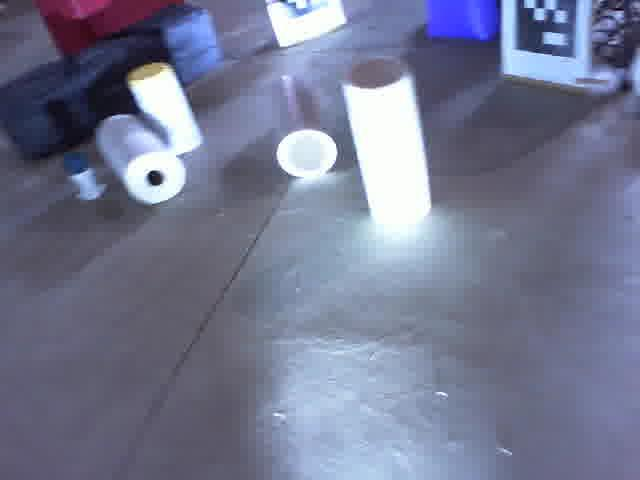coral: (337, 51, 437, 231), (259, 66, 345, 181), (125, 60, 205, 158)
